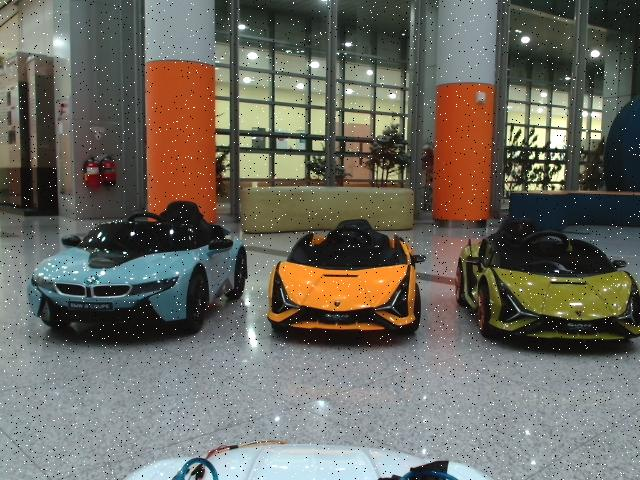car: (26, 201, 247, 330), (455, 218, 640, 343), (266, 218, 426, 334)
